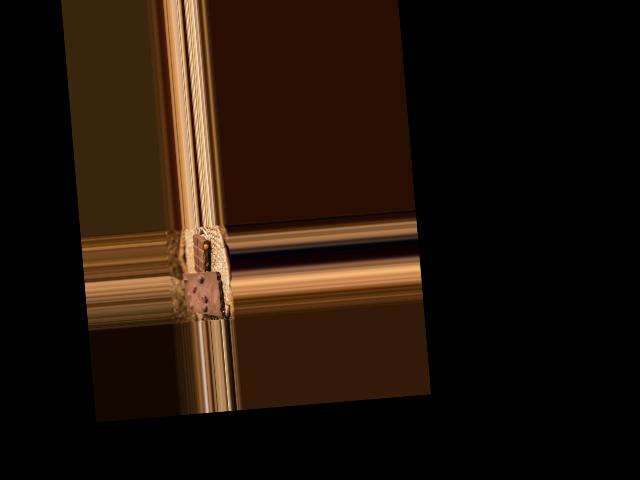chocolate: (181, 267, 225, 320)
